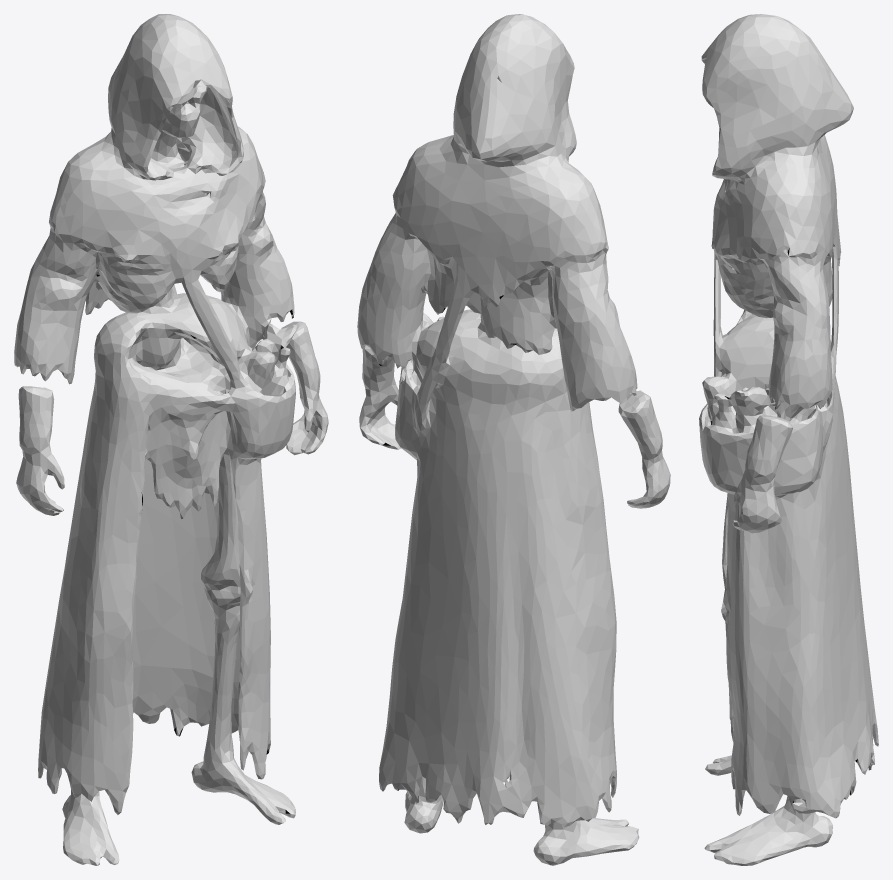
Rendered from npc_skel_trader2.glb.
The picture shows the model from 3 angles, left to right: view 1: azimuth 30°, elevation 25°; view 2: azimuth 150°, elevation 25°; view 3: azimuth 270°, elevation 25°; orthographic projection.
Visible parts, largest first — view 1: Low; view 2: Low; view 3: Low.
Part boxes in pixels (bbox=[...]): Low: bbox=[14, 14, 328, 865]; Low: bbox=[357, 14, 670, 865]; Low: bbox=[699, 14, 878, 865].
Size of the model in its own units: 0.776 by 1.98 by 0.4056.
1 material, 1 textured.
